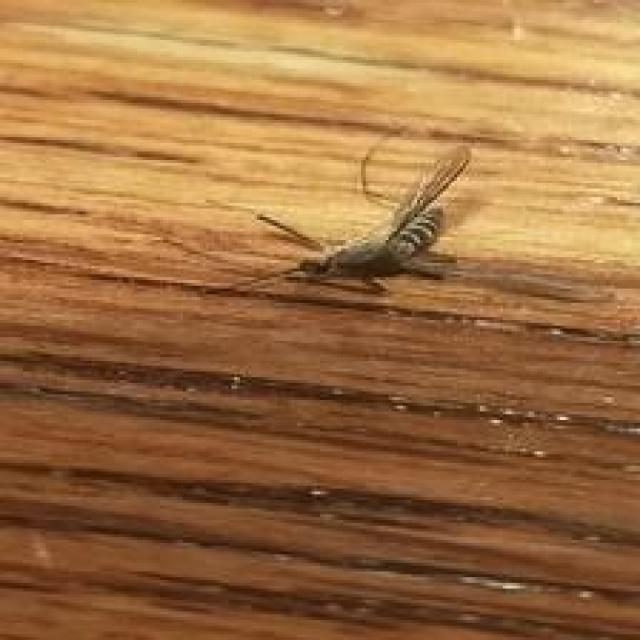Culex: (253, 129, 473, 297)
